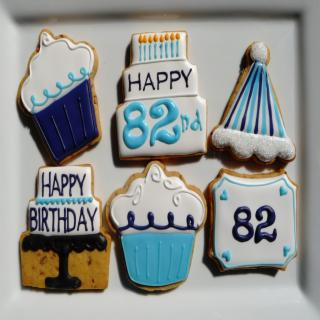Cake: (18, 167, 112, 291), (117, 30, 207, 159)
Cookie: (104, 158, 208, 292), (115, 30, 208, 162), (18, 164, 112, 293), (16, 29, 103, 163), (208, 41, 297, 165), (207, 168, 296, 272)
